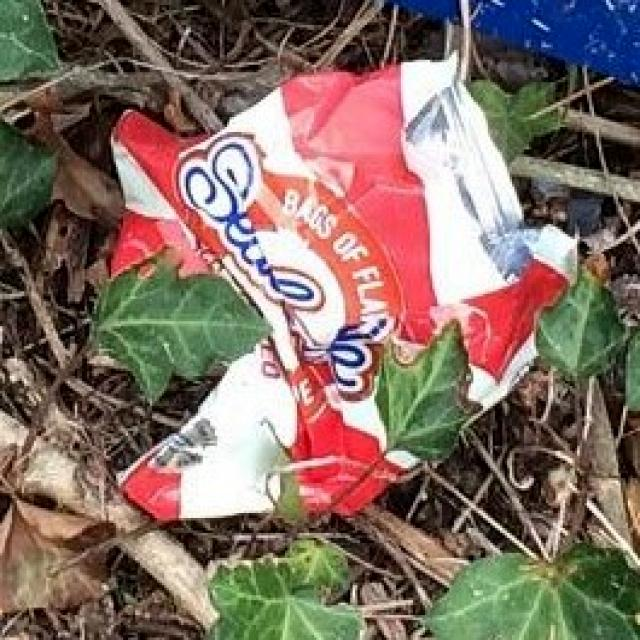Metal: (100, 38, 606, 534)
